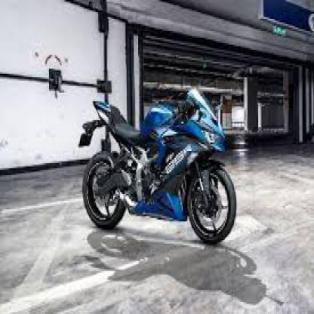Motocicleta: (77, 86, 240, 252)
